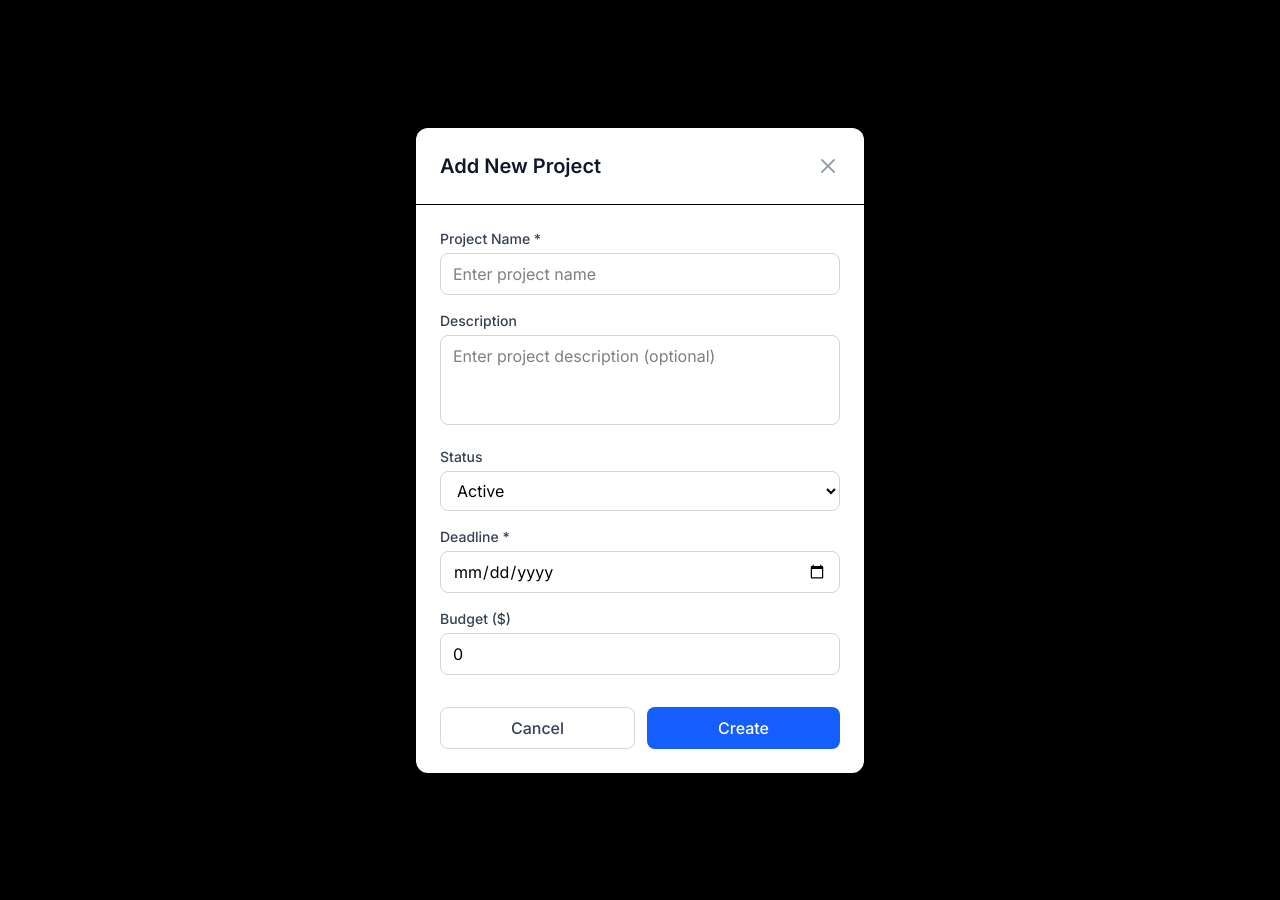
Test case: ProjectModal › shows validation errors for required fields
Click the button "Create" at (744, 728), box [647,706,840,748]
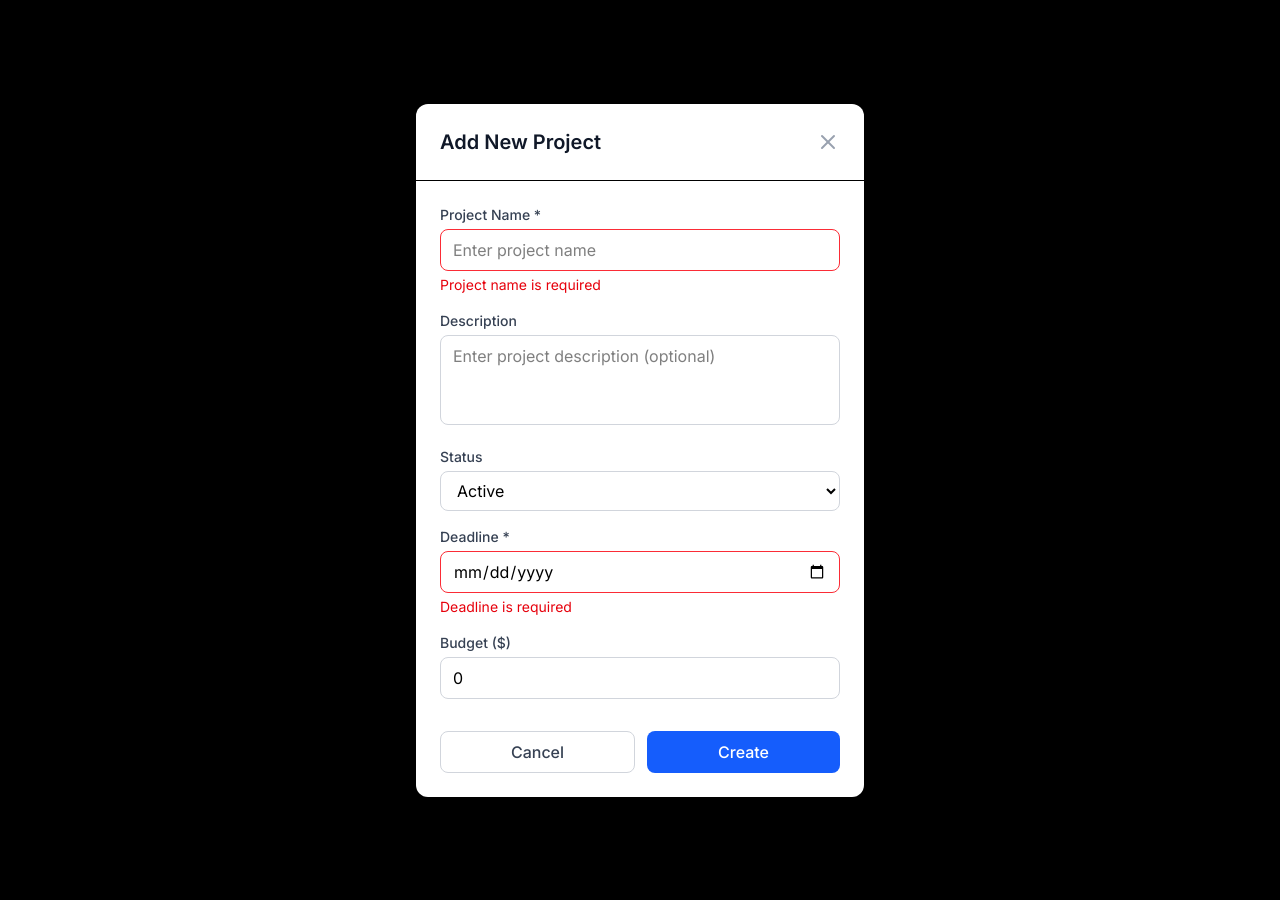
Check: the text "Project name is required" is shown, box [440,276,601,292]
Check: the text "Deadline is required" is shown, box [440,598,572,614]
